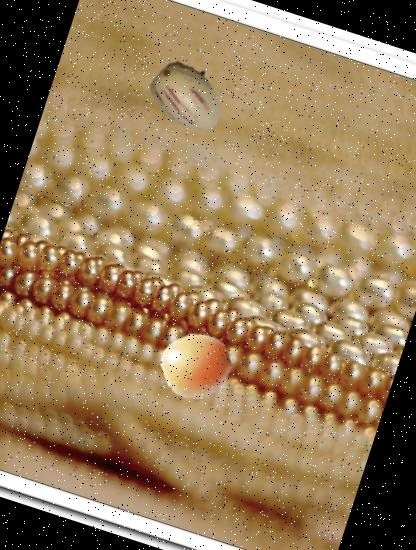Cherry: (154, 323, 240, 409)
Pepino: (138, 46, 239, 146)
